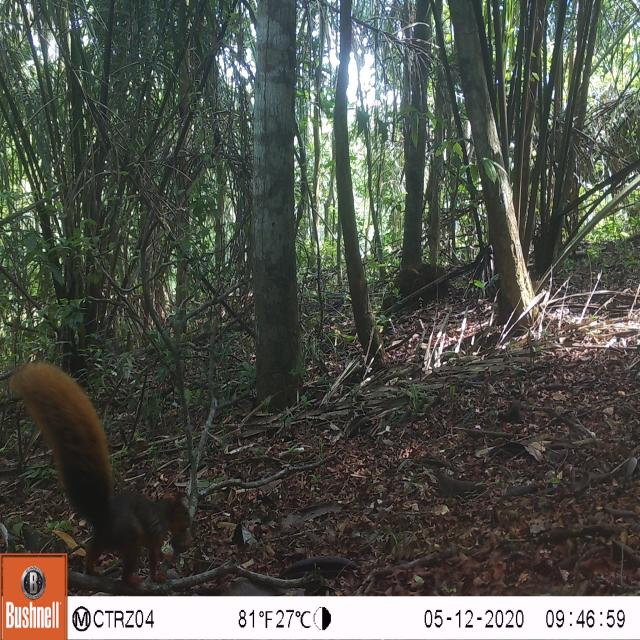Squirrel: (3, 353, 197, 584)
